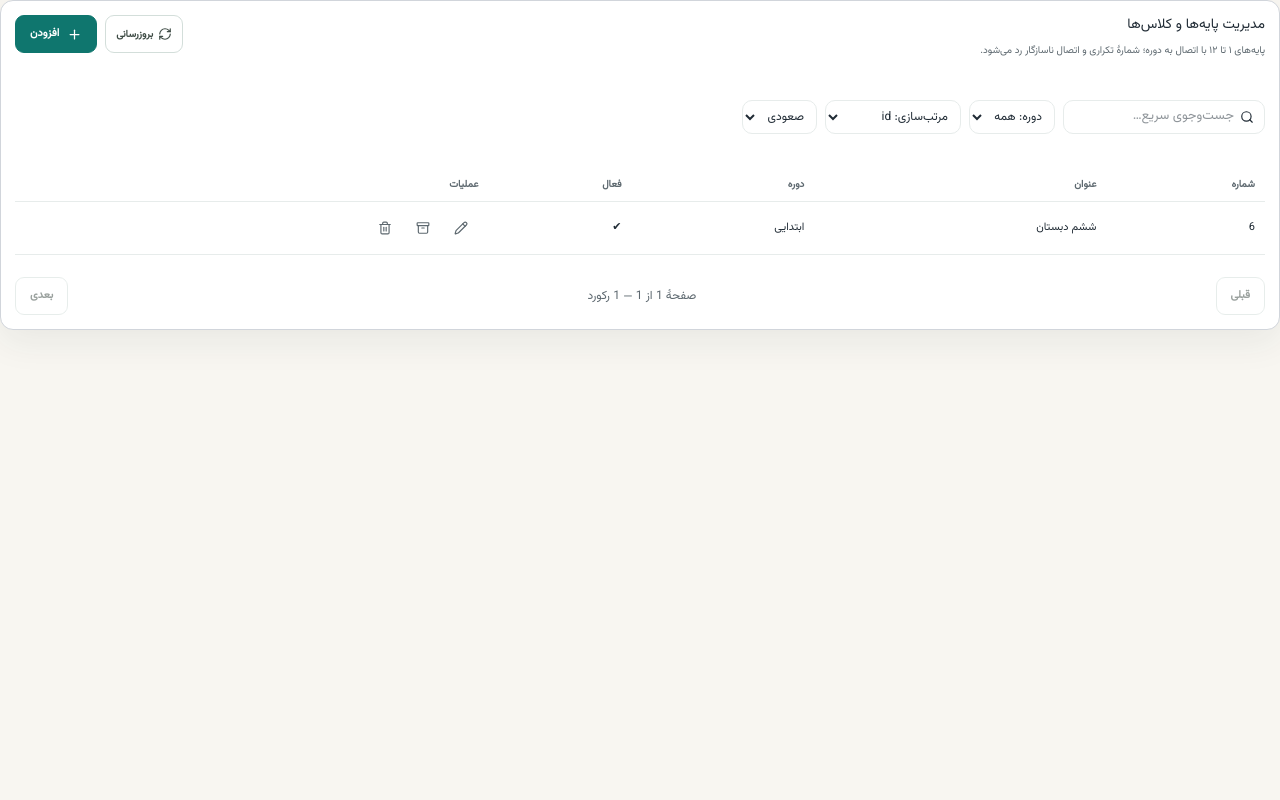
Scenario: AdminCatalogManager — grades module › shows dependency counts in the delete confirm and blocks destructive delete
Expected: the text "ششم دبستان" is shown, [814,202,1106,254]
Click the button named "حذف": (385, 228) [368,211,402,245]
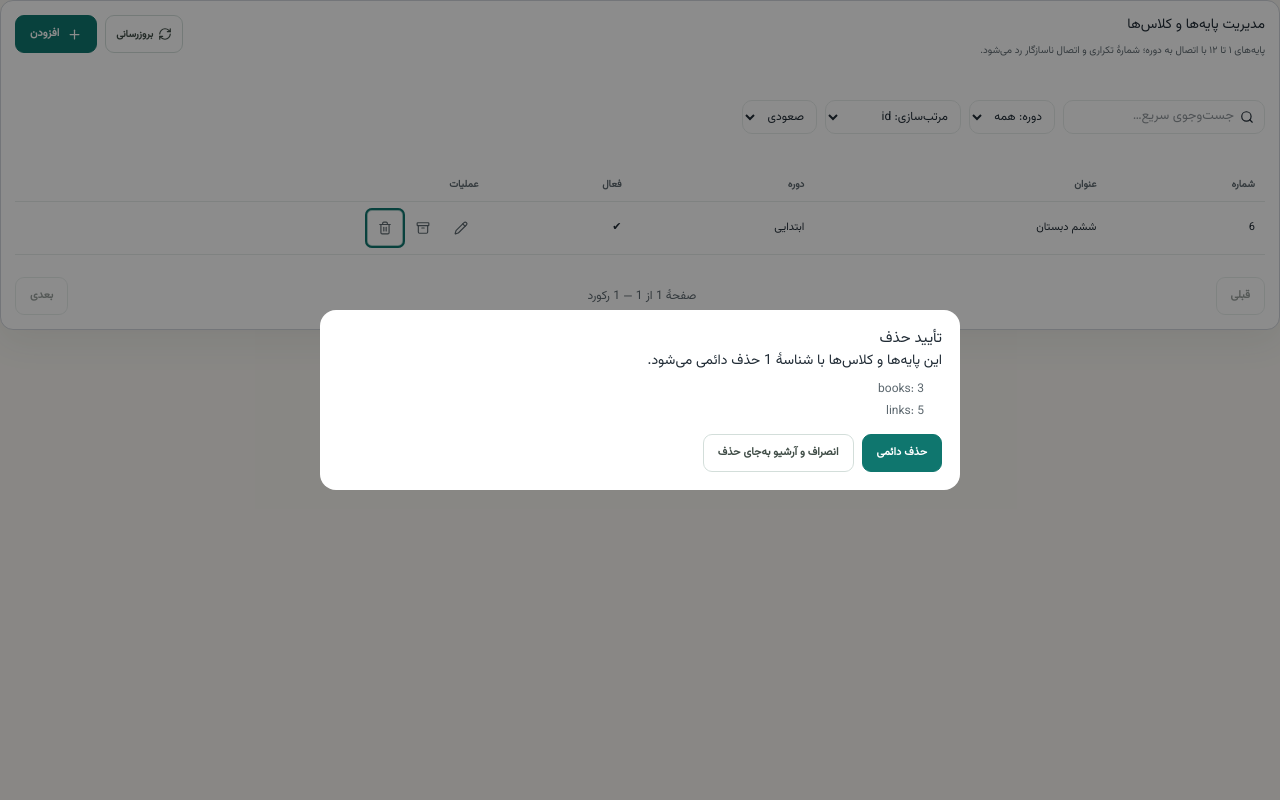
Expected: the heading "تأیید حذف" is shown, [879,327,942,350]
Expected: the list item "books: 3" is shown, [878,380,924,398]
Click the button "حذف دائمی": (902, 453) [862,434,942,472]
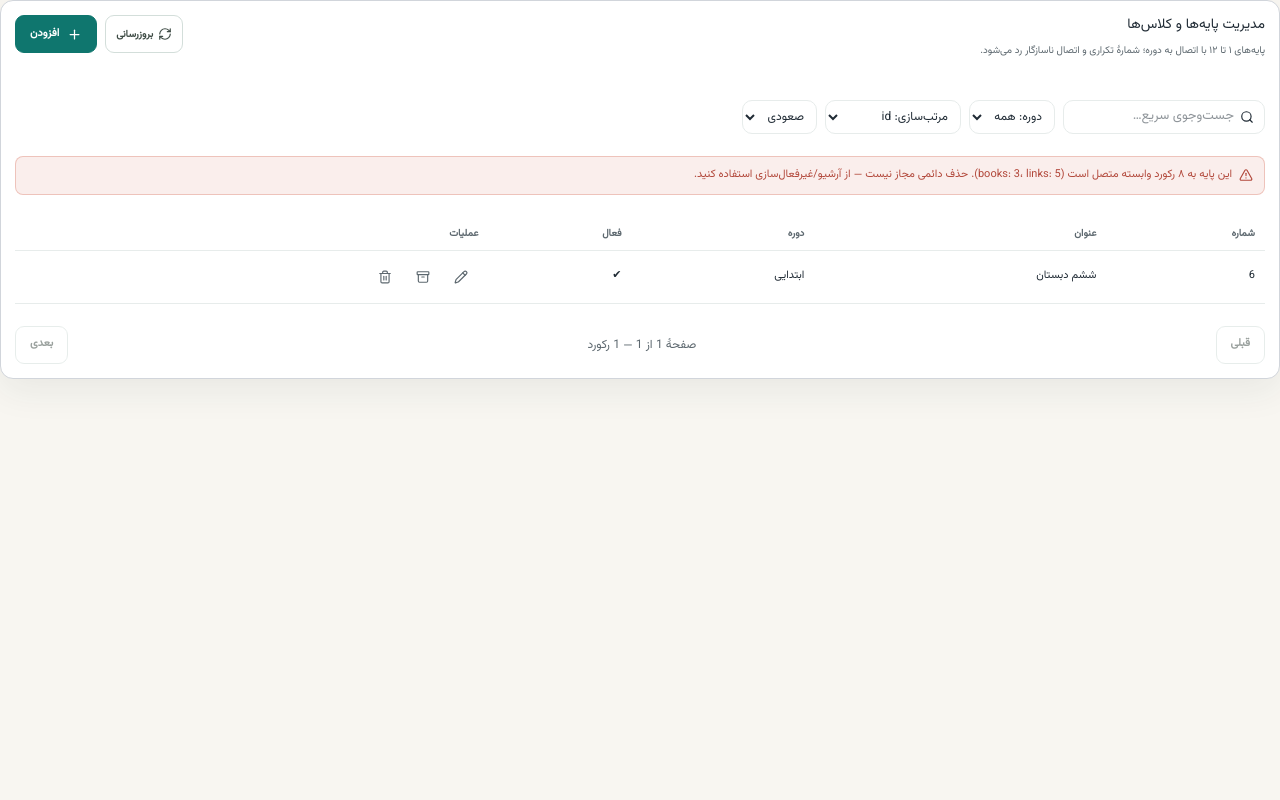
Expected: the text "ششم دبستان" is shown, [814,250,1106,303]
Expected: the text "وابسته متصل است" is shown, [694,166,1232,183]
